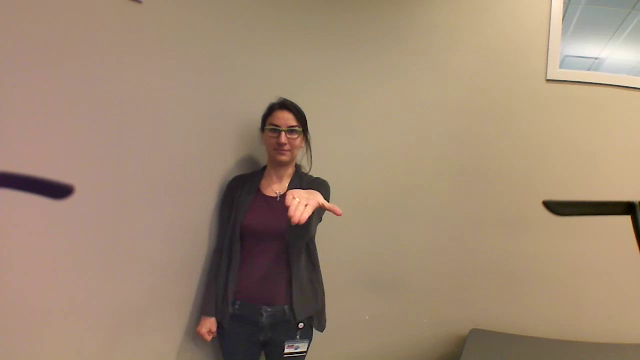land: (275, 185, 348, 228)
